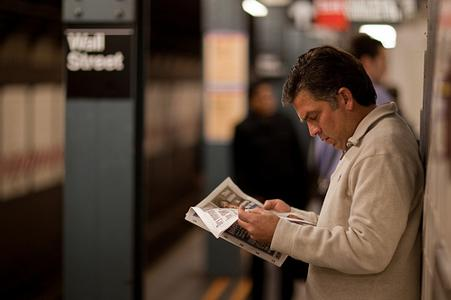person: (238, 46, 424, 300)
